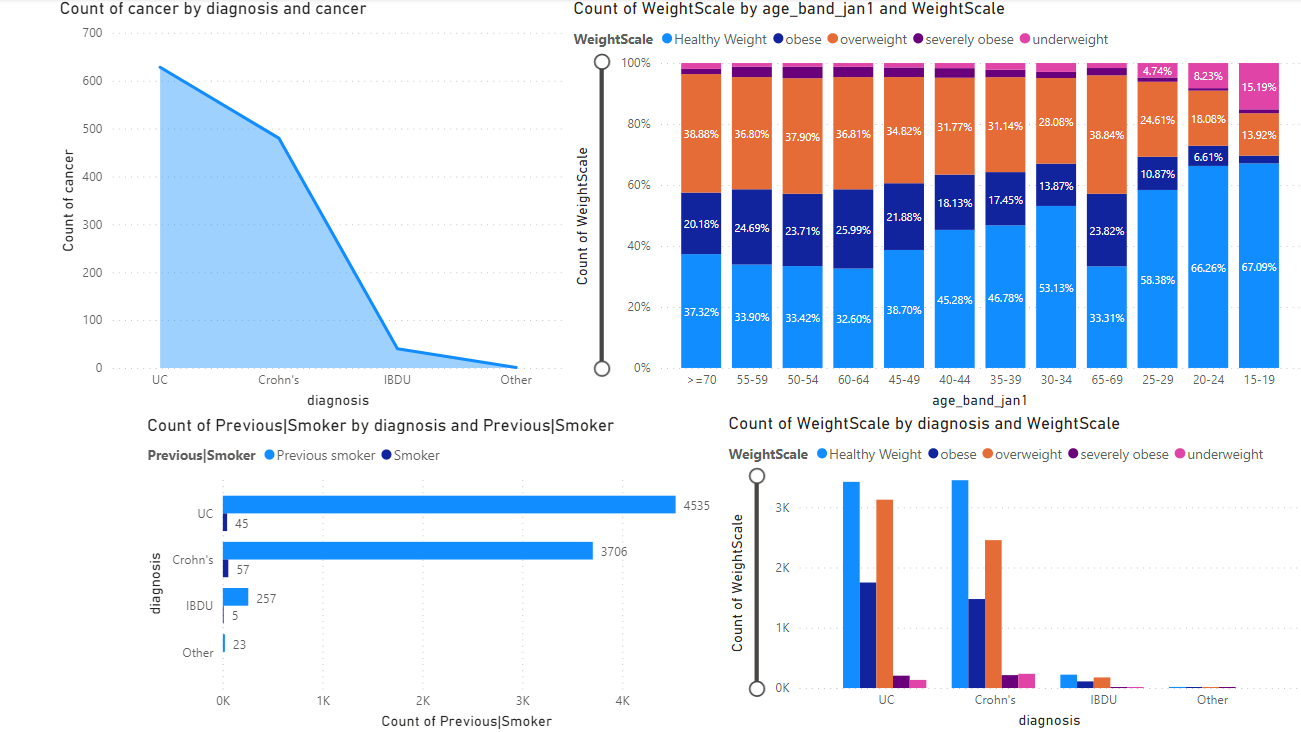

The dashboard page shown, as its layout file describes it:
{"tool":"powerbi","page":{"name":"Page 1","canvas":[1280,720],"ordinal":0},"visuals":[{"type":"hundredPercentStackedColumnChart","fields":{"Category":["in.age_band_jan1"],"Y":["CountNonNull(in.WeightScale)"],"Series":["in.WeightScale"]},"box":[559.6,0,720,406.4],"z":0},{"type":"clusteredColumnChart","fields":{"Category":["in.diagnosis"],"Y":["CountNonNull(in.WeightScale)"],"Series":["in.WeightScale"]},"box":[711.6,406.4,568,313.6],"z":1000},{"type":"clusteredBarChart","fields":{"Category":["in.diagnosis"],"Series":["in.Previous|Smoker"],"Y":["CountNonNull(in.Previous|Smoker)"]},"box":[57.5,407.1,568.4,312.9],"z":2000},{"type":"areaChart","fields":{"Category":["in.diagnosis"],"Series":["in.cancer"],"Y":["CountNonNull(in.cancer)"]},"box":[57.7,0,502.7,406.5],"z":3000}]}

Visuals, with their boxes in screenshot pixels (x1, y1, x2, y2), scaled from the page's 1280x720 canvas onto the 1301x732 screenshot:
hundredPercentStackedColumnChart - in.age_band_jan1 x CountNonNull(in.WeightScale): {"left": 569, "top": 0, "right": 1300, "bottom": 413}
clusteredColumnChart - in.diagnosis x CountNonNull(in.WeightScale): {"left": 723, "top": 413, "right": 1300, "bottom": 731}
clusteredBarChart - in.diagnosis x in.Previous|Smoker: {"left": 58, "top": 414, "right": 636, "bottom": 731}
areaChart - in.diagnosis x in.cancer: {"left": 59, "top": 0, "right": 570, "bottom": 413}
